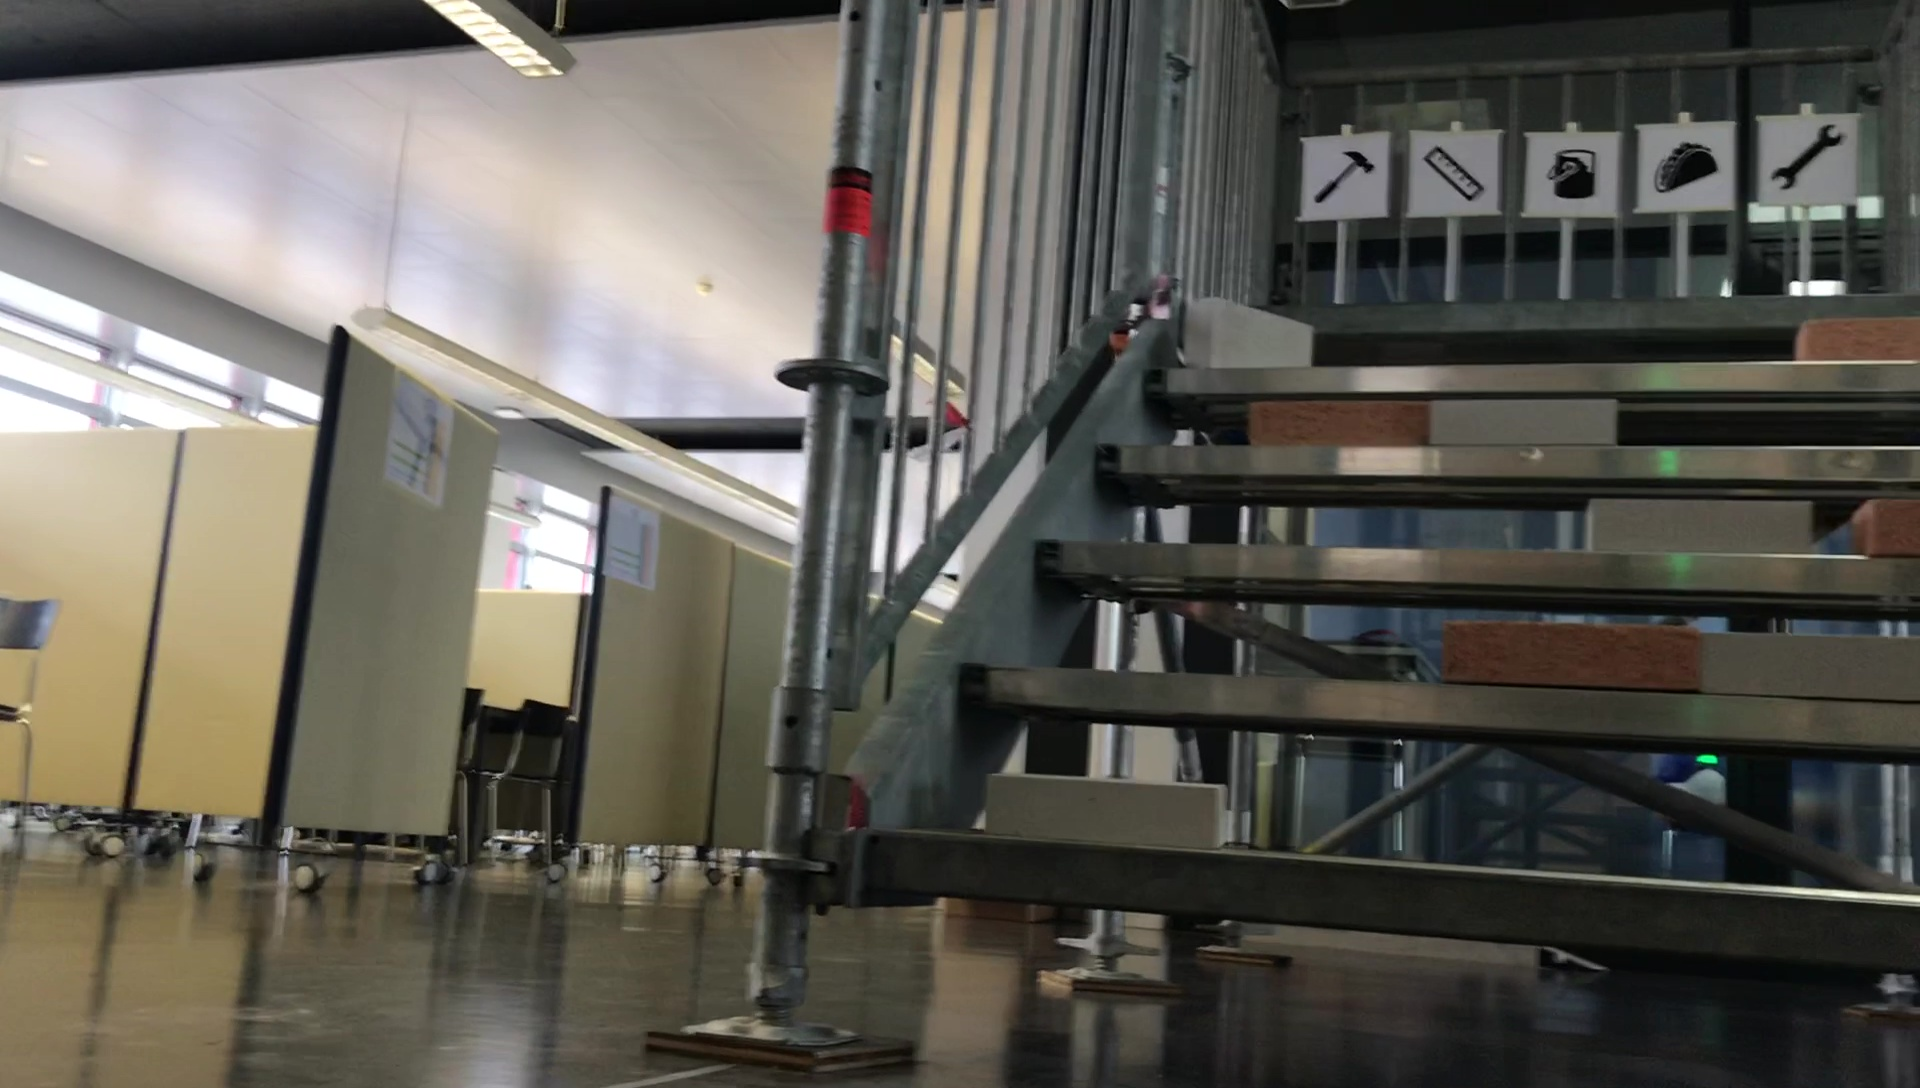brick: (978, 761, 1236, 844), (1447, 619, 1701, 691), (1713, 634, 1920, 696), (1584, 497, 1807, 551), (1433, 390, 1630, 442), (1192, 295, 1313, 371), (1246, 405, 1425, 452), (1797, 324, 1920, 357), (1859, 495, 1920, 558)
bucket: (1544, 142, 1600, 200)
edge: (864, 852, 1920, 947), (942, 666, 1920, 731), (1023, 541, 1920, 589), (1218, 285, 1917, 327), (1092, 447, 1920, 475), (1159, 367, 1917, 388)
hammer: (1315, 145, 1373, 204)
ruler: (1422, 141, 1482, 199)
stairs: (744, 0, 1920, 1052)
steps: (814, 298, 1920, 932)
taco: (1654, 138, 1717, 196)
wrench: (1774, 121, 1847, 191)
